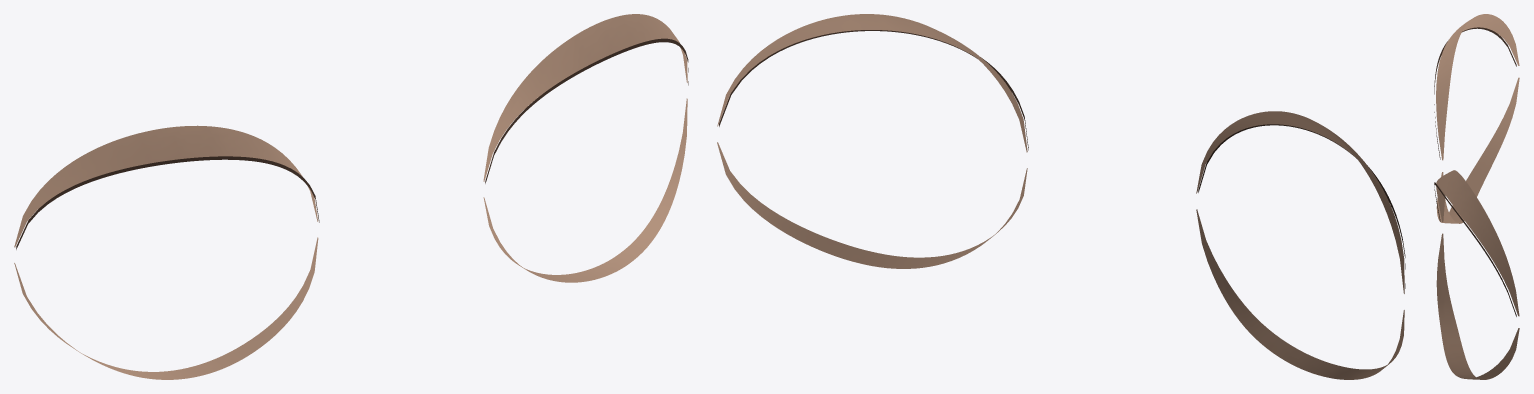
The model's file is cucu-eyelids-v1.glb.
3 views of the same model, side by side, from view 1: azimuth 30°, elevation 25°; view 2: azimuth 150°, elevation 25°; view 3: azimuth 270°, elevation 25° (orthographic). The views are drawn at different scales.
Parts seen in each view (by area): view 1: Paupieres_Sculptees; view 2: Paupieres_Sculptees; view 3: Paupieres_Sculptees.
Boxes of the visible parts, x1,y1,x2,y2 form: Paupieres_Sculptees: [14, 14, 688, 379]; Paupieres_Sculptees: [717, 14, 1405, 379]; Paupieres_Sculptees: [1434, 14, 1519, 379].
Bounding box in the file's own units: 0.3497 × 0.122 × 0.0504.
